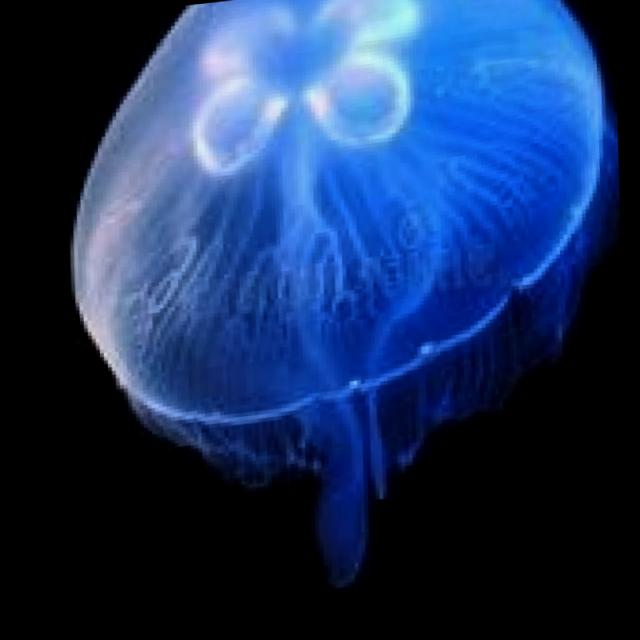Moon-jellyfish: (35, 0, 640, 619)
